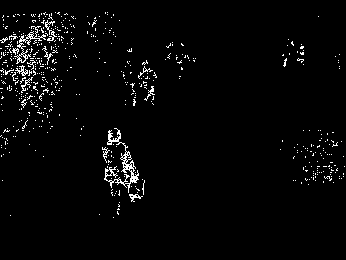person: (102, 126, 147, 214), (138, 58, 157, 107), (122, 59, 137, 107)
